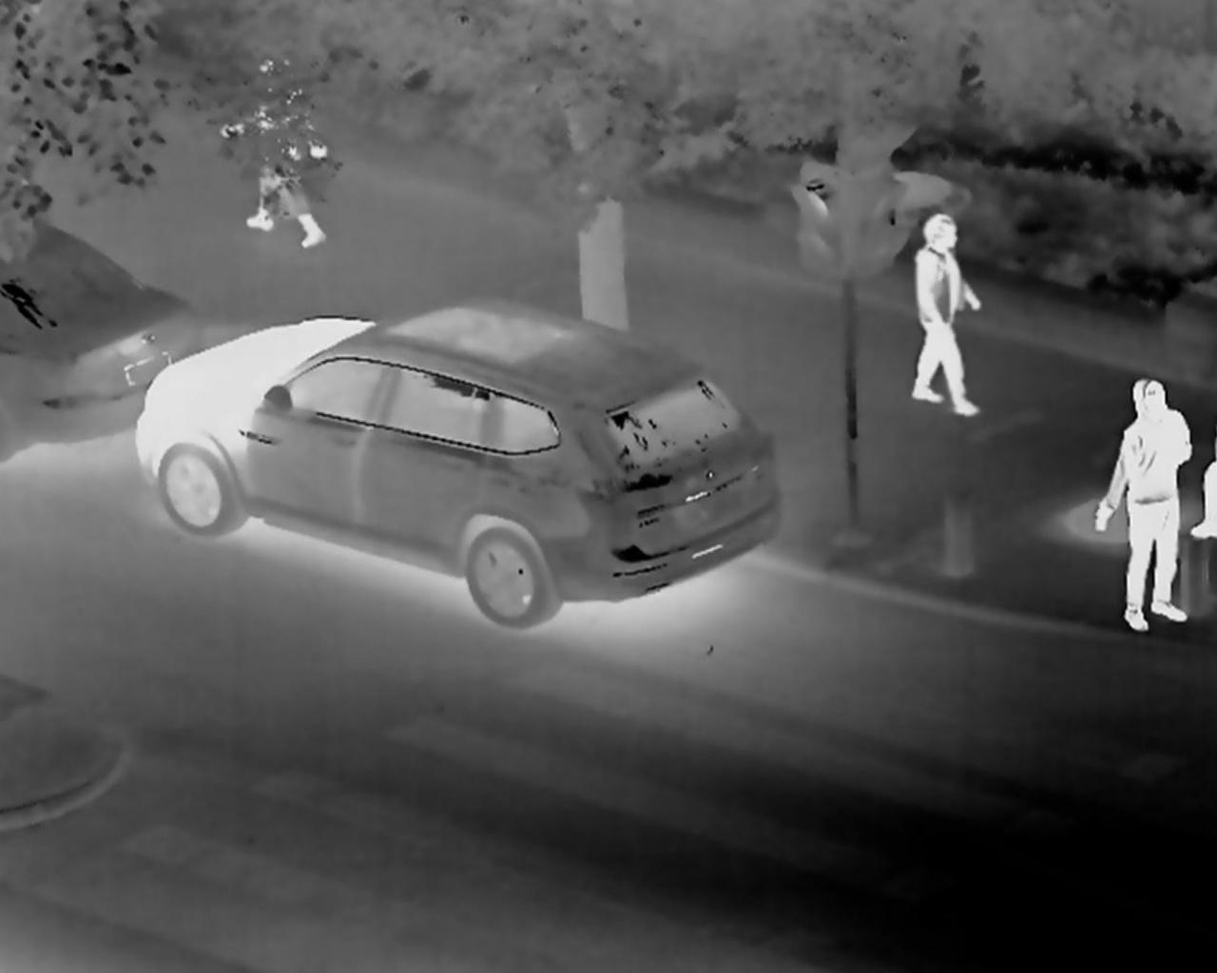person: (1085, 372, 1195, 630), (215, 52, 333, 254), (904, 209, 986, 421)
